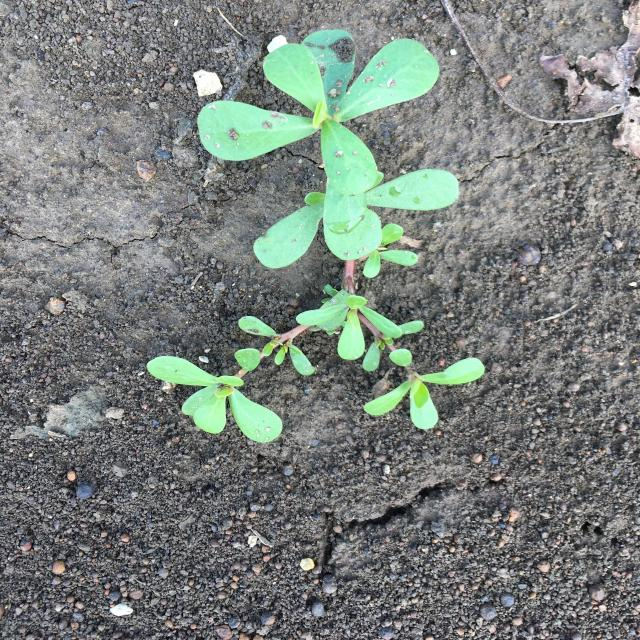Purslane: (146, 29, 485, 443)
